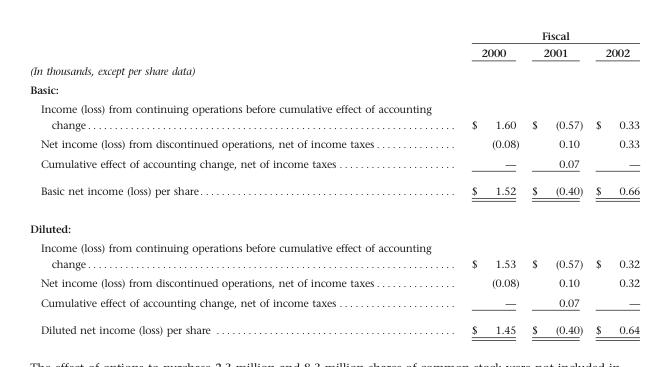table: (29, 28, 639, 335)
table column: (29, 28, 462, 335), (524, 28, 588, 335), (462, 28, 524, 335), (588, 28, 639, 335)
table column header: (29, 28, 639, 61)
table projected row header: (29, 209, 639, 238), (29, 79, 639, 98), (29, 61, 639, 79)
table row: (29, 98, 639, 133), (29, 238, 639, 272), (29, 176, 639, 209), (29, 209, 639, 238), (29, 153, 639, 176), (29, 292, 639, 315), (29, 133, 639, 153), (29, 272, 639, 292), (29, 315, 639, 335), (29, 79, 639, 98), (29, 43, 639, 61), (29, 61, 639, 79), (29, 28, 639, 43)
table spanning cell: (462, 28, 639, 43)
